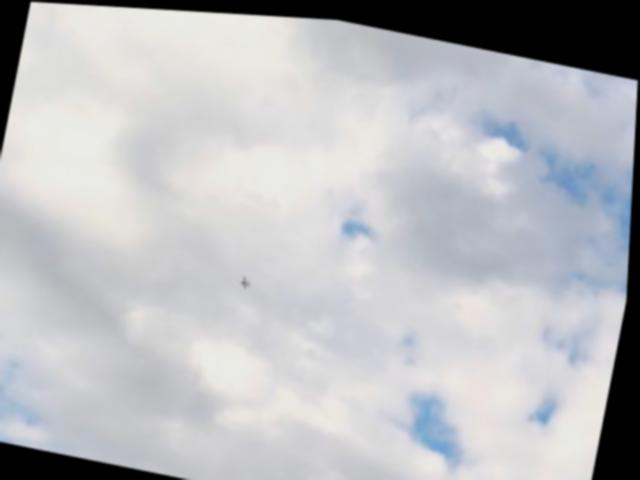uav: (241, 269, 256, 289)
